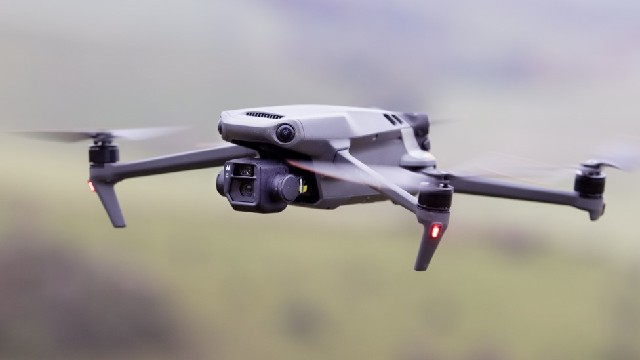maybay_khongnguoilai: (30, 101, 625, 272)
